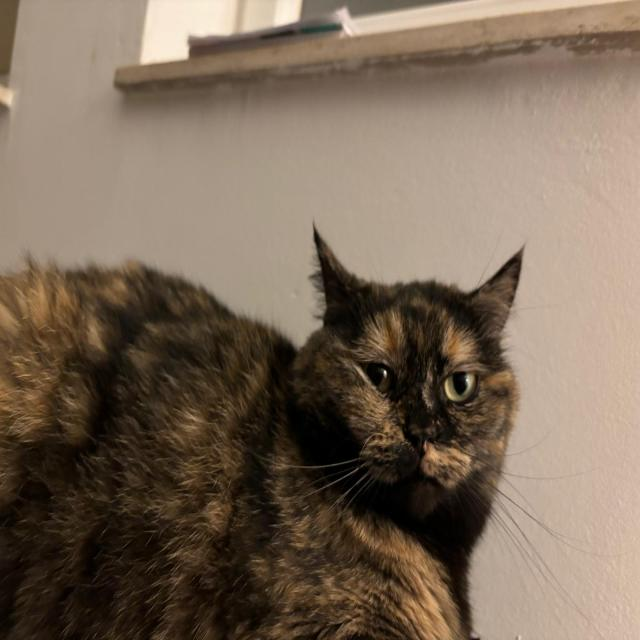authorized: (0, 219, 592, 638)
